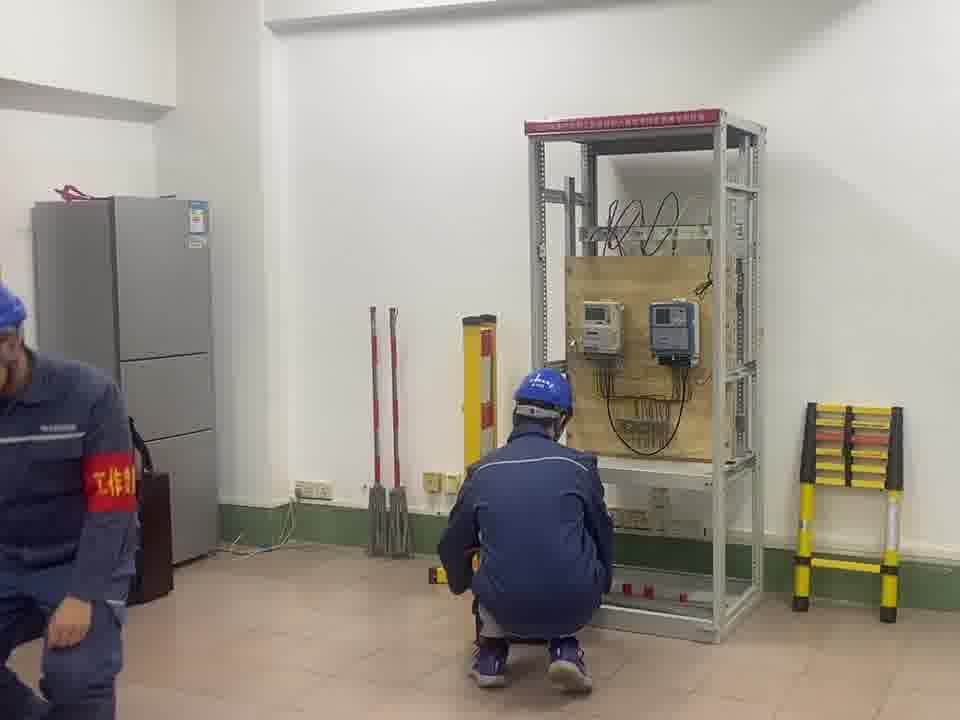badge: (81, 452, 139, 514)
downsuit: (1, 608, 130, 720)
halt: (511, 368, 574, 432), (1, 282, 31, 385)
hand: (45, 596, 95, 650)
person: (1, 273, 166, 720), (439, 366, 615, 684)
upsuit: (1, 351, 149, 615), (437, 437, 619, 619)
